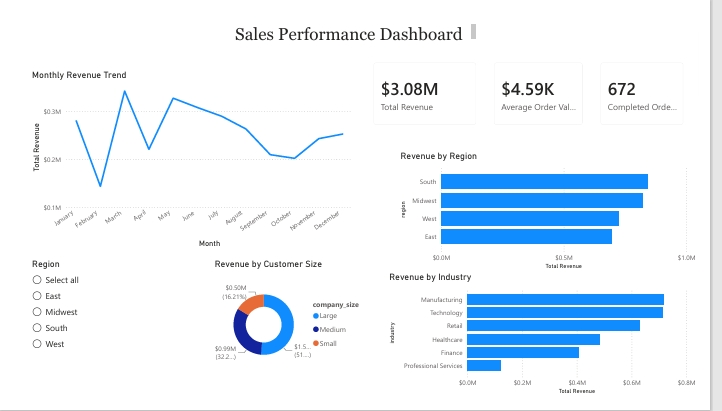

What the dashboard file says about the page in this screenshot:
{"tool":"powerbi","page":{"name":"Page 1","canvas":[1280,720],"ordinal":0},"visuals":[{"type":"cardVisual","fields":{"Data":["sales.Total Revenue"]},"box":[657.1,77.6,225.4,150.7],"z":0},{"type":"cardVisual","fields":{"Data":["sales.Average Order Value"]},"box":[882.4,77.6,199,150.7],"z":1000},{"type":"lineChart","title":"Monthly Revenue Trend","fields":{"Category":["sales.order_date.Variation.Date Hierarchy.Year","sales.order_date.Variation.Date Hierarchy.Quarter","sales.order_date.Variation.Date Hierarchy.Month","sales.order_date.Variation.Date Hierarchy.Day"],"Y":["sales.Total Revenue"]},"box":[30.7,108.3,608.8,338],"z":2000},{"type":"clusteredBarChart","title":"Revenue by Region","fields":{"Category":["sales.region"],"Y":["sales.Total Revenue"]},"box":[718.5,259,562,226.8],"z":3000},{"type":"clusteredBarChart","title":"Revenue by Industry","fields":{"Category":["customers.industry"],"Y":["sales.Total Revenue"]},"box":[698,485.9,582.4,234.1],"z":4000},{"type":"donutChart","title":"Revenue by Customer Size","fields":{"Category":["customers.company_size"],"Y":["sales.Total Revenue"]},"box":[371.7,461,285.4,228.3],"z":5000},{"type":"textbox","box":[409.8,19,459.5,41],"z":6000},{"type":"cardVisual","fields":{"Data":["sales.Completed Orders"]},"box":[1081.5,77.6,188.8,150.7],"z":7000},{"type":"listSlicer","title":"Region","fields":{"Values":["sales.region"]},"box":[30.7,461,194.6,228.3],"z":7001}]}

Visuals, with their boxes in screenshot pixels (x1, y1, x2, y2), scaled from the page's 1280x720 canvas onto the 722x411 screenshot:
cardVisual - sales.Total Revenue: bbox=[371, 44, 498, 130]
cardVisual - sales.Average Order Value: bbox=[498, 44, 610, 130]
"Monthly Revenue Trend" lineChart: bbox=[17, 62, 361, 255]
"Revenue by Region" clusteredBarChart: bbox=[405, 148, 721, 277]
"Revenue by Industry" clusteredBarChart: bbox=[394, 277, 721, 410]
"Revenue by Customer Size" donutChart: bbox=[210, 263, 371, 393]
textbox: bbox=[231, 11, 490, 34]
cardVisual - sales.Completed Orders: bbox=[610, 44, 717, 130]
"Region" listSlicer: bbox=[17, 263, 127, 393]
